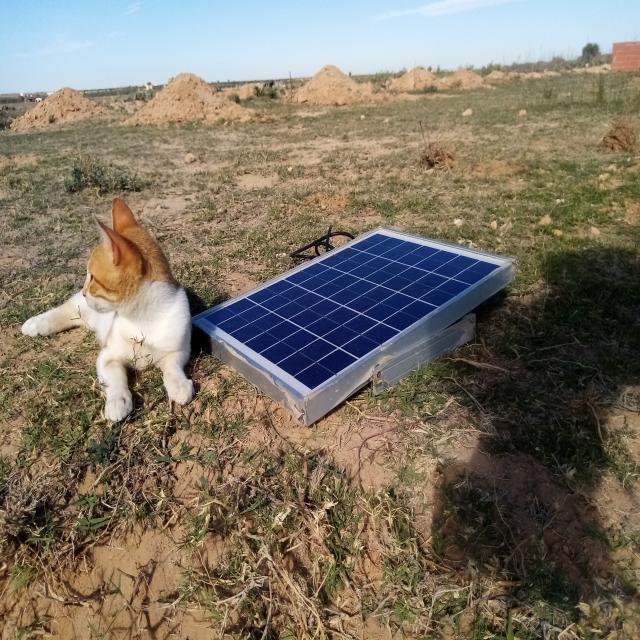Normal Solar Panel: (193, 227, 514, 401)
